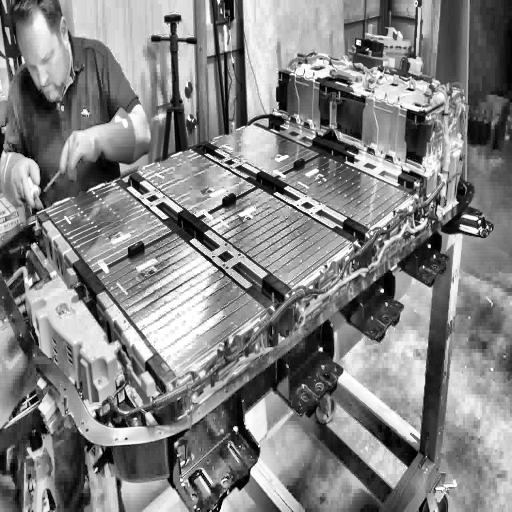battery_module: (97, 231, 267, 377), (200, 188, 351, 288), (47, 182, 173, 273), (276, 154, 410, 230), (134, 147, 254, 217), (207, 123, 318, 178)
connector: (344, 31, 389, 76)
high_volt_cable: (189, 92, 454, 406)
low_volt_cable: (89, 77, 469, 419)
